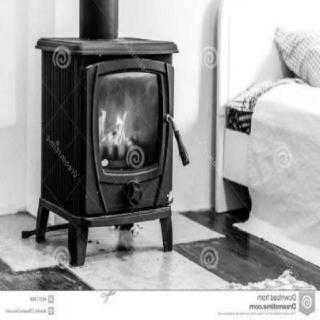Fire: (97, 94, 139, 157)
